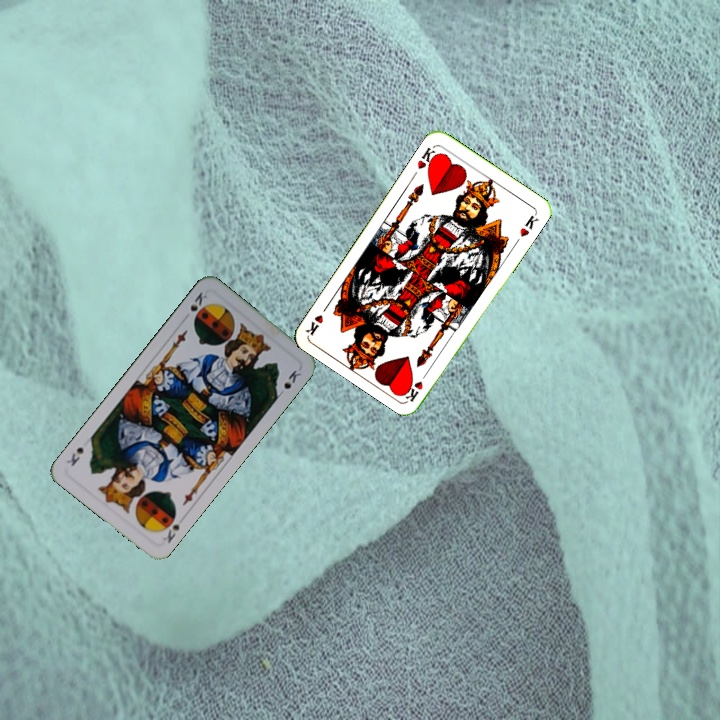HK: (401, 366, 432, 404), (413, 142, 441, 172)
SK: (157, 509, 188, 546), (186, 288, 210, 314)
